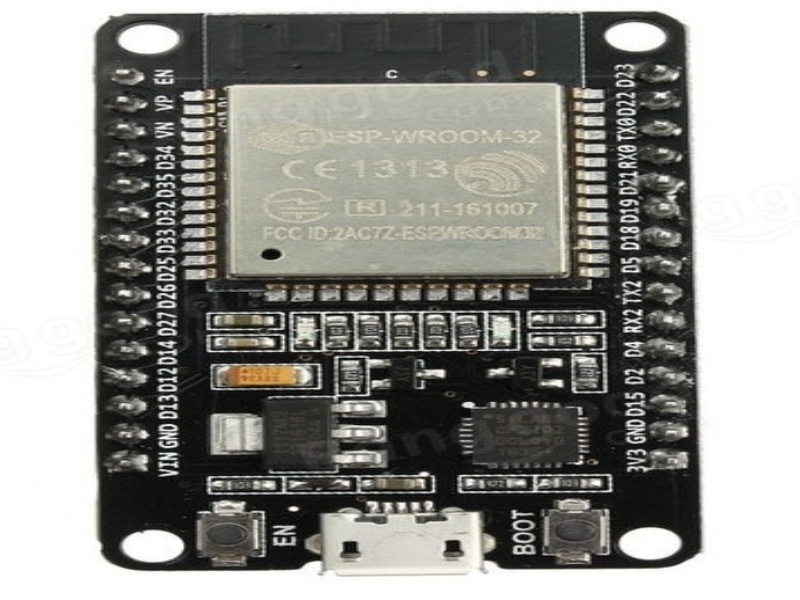esp32: (73, 5, 715, 507)
